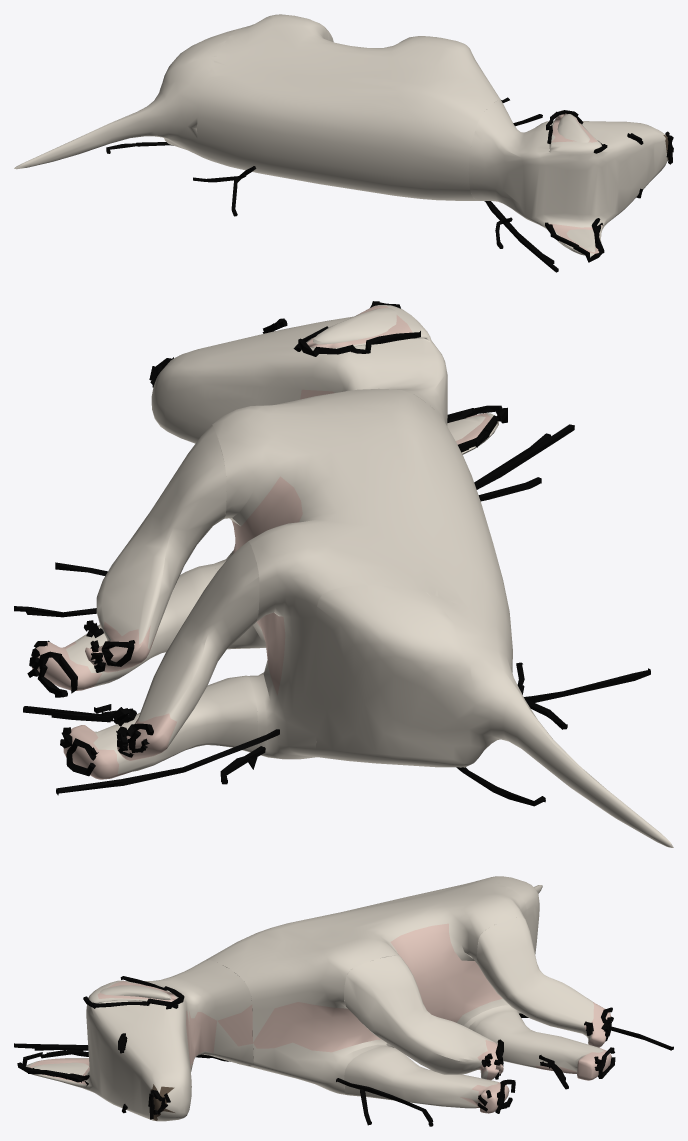
Rendered from sirius.glb.
3 views of the same model, one above another, from view 1: azimuth 30°, elevation 25°; view 2: azimuth 150°, elevation 25°; view 3: azimuth 270°, elevation 25° (orthographic). The views are drawn at different scales.
Parts seen in each view (by area): view 1: Sirius, lines_sirius; view 2: Sirius, lines_sirius; view 3: Sirius, lines_sirius.
Boxes of the visible parts, <box> form: Sirius: <box>14,14,668,256</box>; lines_sirius: <box>106,97,673,272</box>; Sirius: <box>31,305,673,847</box>; lines_sirius: <box>14,301,650,806</box>; Sirius: <box>24,876,611,1121</box>; lines_sirius: <box>14,976,673,1126</box>.
Size of the model in its own units: 0.7263 by 0.1829 by 0.7826.
